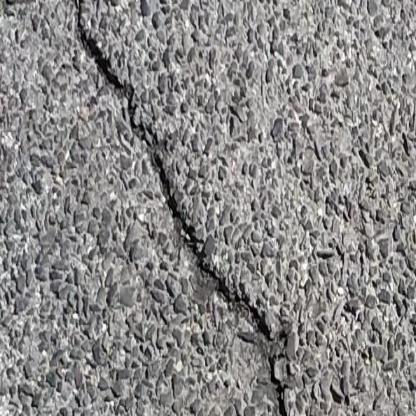Cracks: (0, 0, 297, 416)
